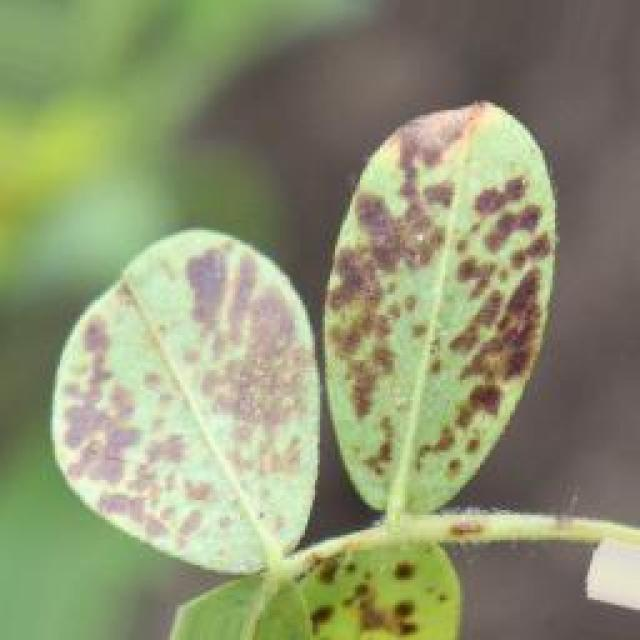Whitefly: (33, 65, 566, 640)
